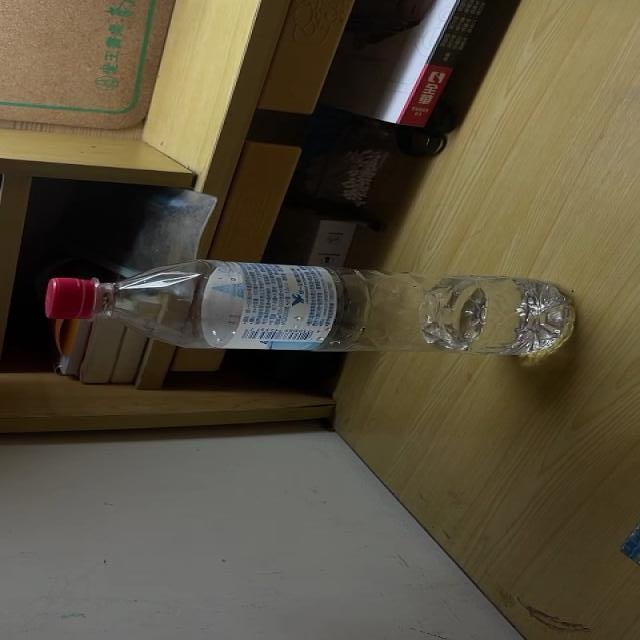Water: (46, 261, 576, 353)
